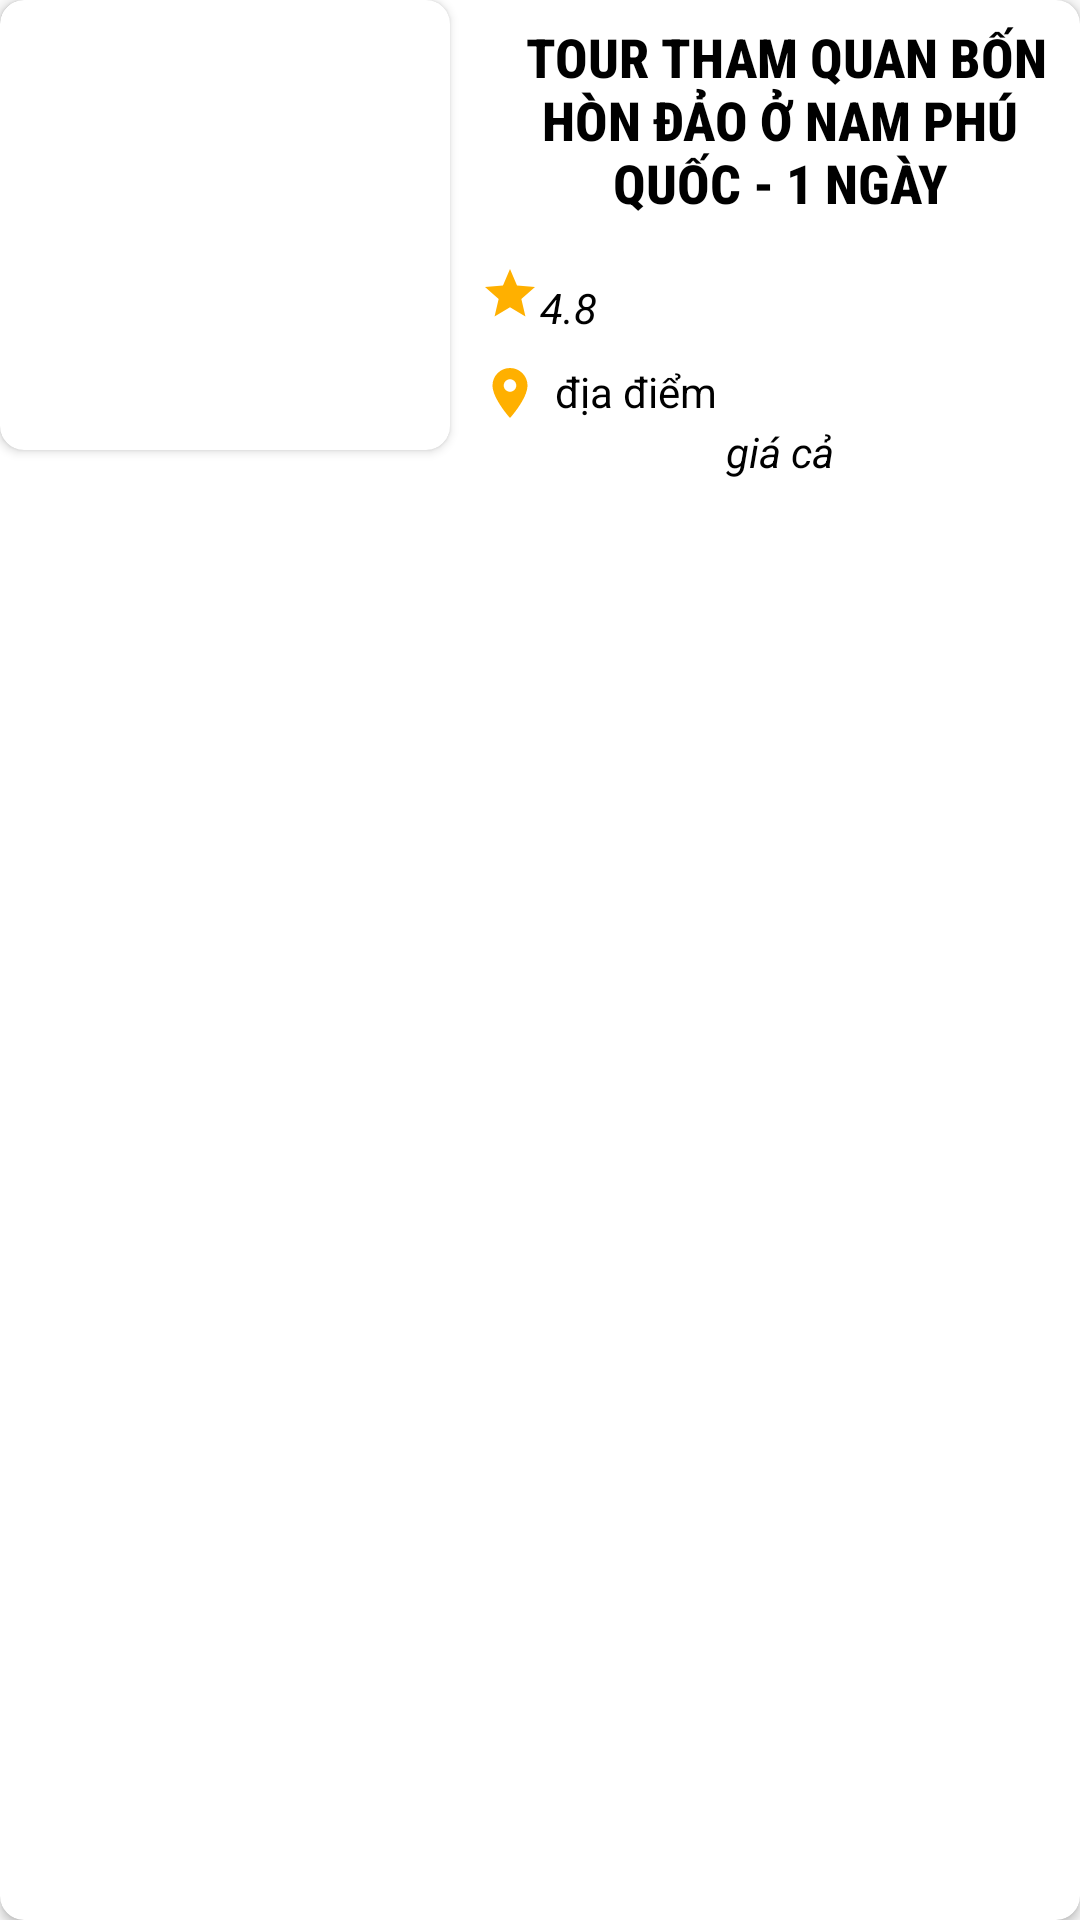

Icon click points for this 1080×1920 phone screenshot, format (x=x, y=y):
maker: (x=510, y=393)
star: (x=510, y=293)
